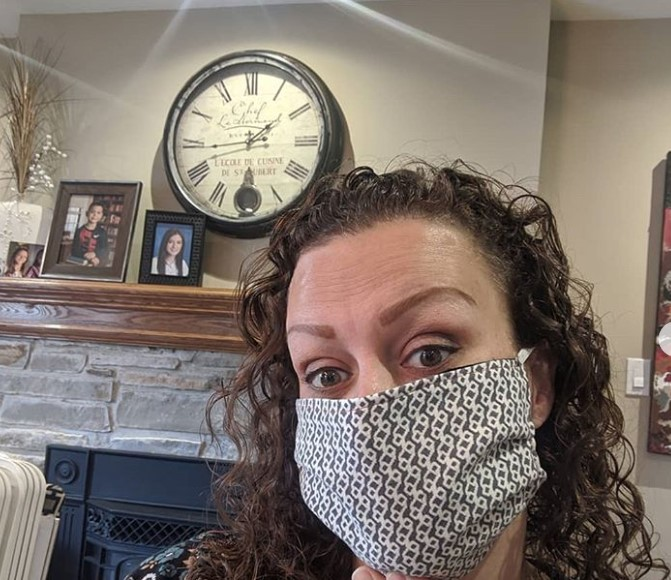face_with_mask: (276, 178, 568, 576)
